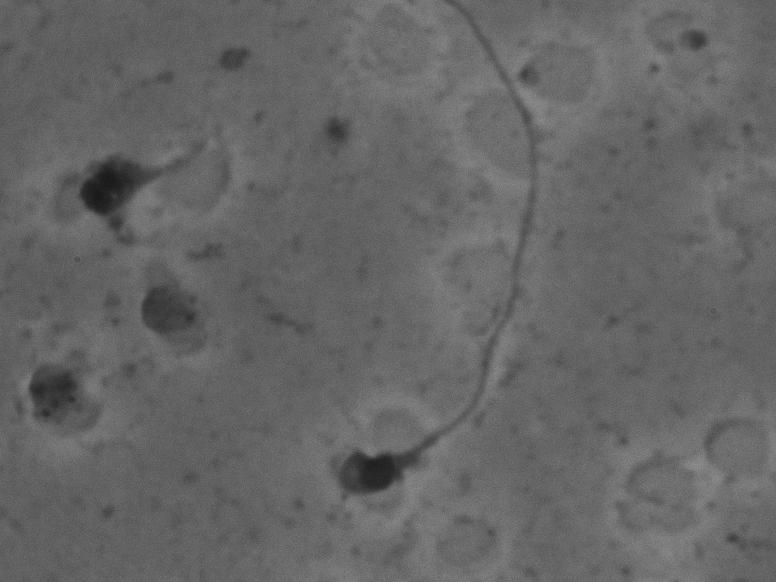Abnormal: (332, 18, 586, 506), (40, 100, 253, 234)
